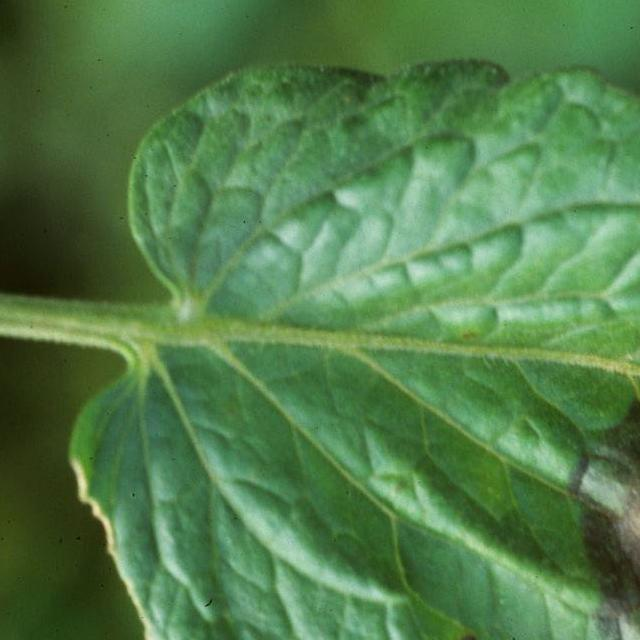Tomato leaf late blight: (47, 38, 640, 640)
